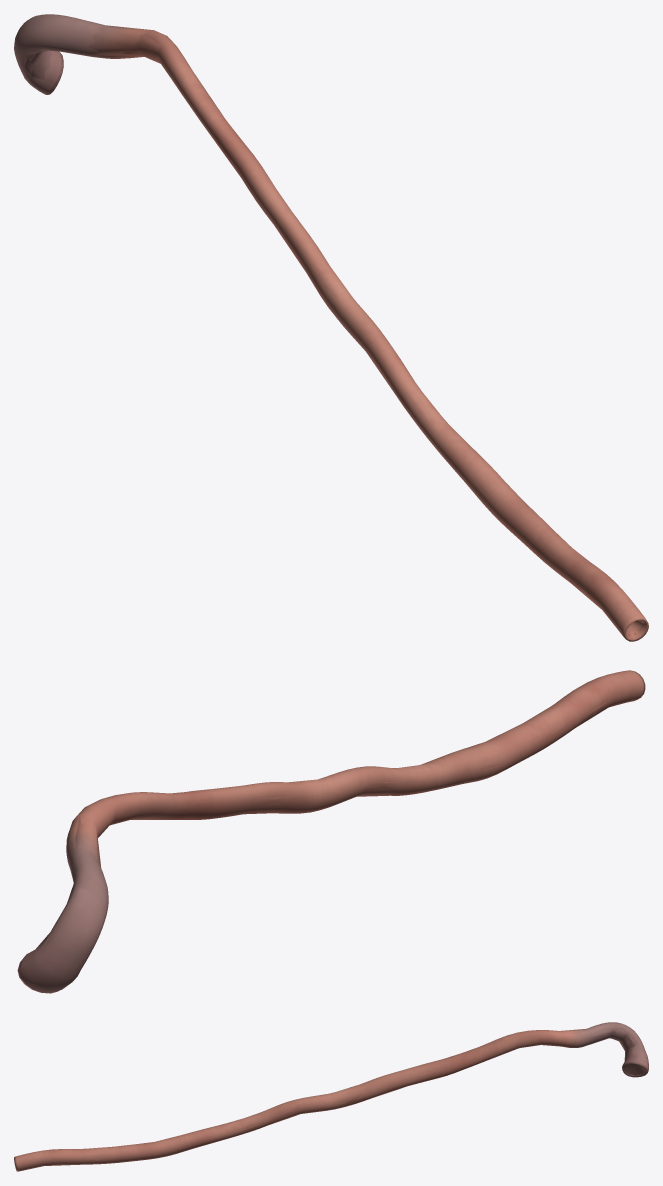
File: Esophagus.fbx
3 views of the same model, one above another, from view 1: azimuth 30°, elevation 25°; view 2: azimuth 150°, elevation 25°; view 3: azimuth 270°, elevation 25° (orthographic). The views are drawn at different scales.
Visible parts, largest first — view 1: Esophagus high, Esophagus, Esophagus low; view 2: Esophagus high, Esophagus, Esophagus low; view 3: Esophagus high, Esophagus, Esophagus low.
Boxes of the visible parts, <box> form: Esophagus high: <box>14,14,648,641</box>; Esophagus: <box>20,21,616,627</box>; Esophagus low: <box>24,25,648,641</box>; Esophagus high: <box>17,670,645,993</box>; Esophagus: <box>19,691,635,968</box>; Esophagus low: <box>33,697,636,958</box>; Esophagus high: <box>14,1022,648,1171</box>; Esophagus: <box>24,1026,647,1168</box>; Esophagus low: <box>19,1028,646,1170</box>.
Bounding box in the file's own units: 4.11 × 11.76 × 47.83.
1 material, 1 textured.
